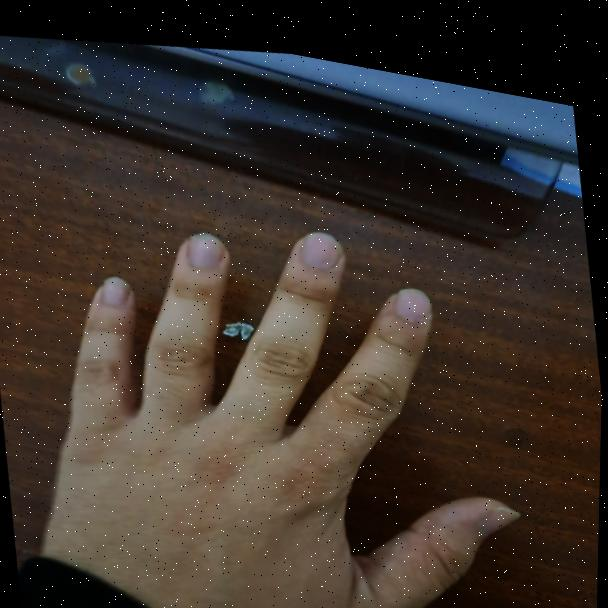five: (3, 149, 528, 608)
